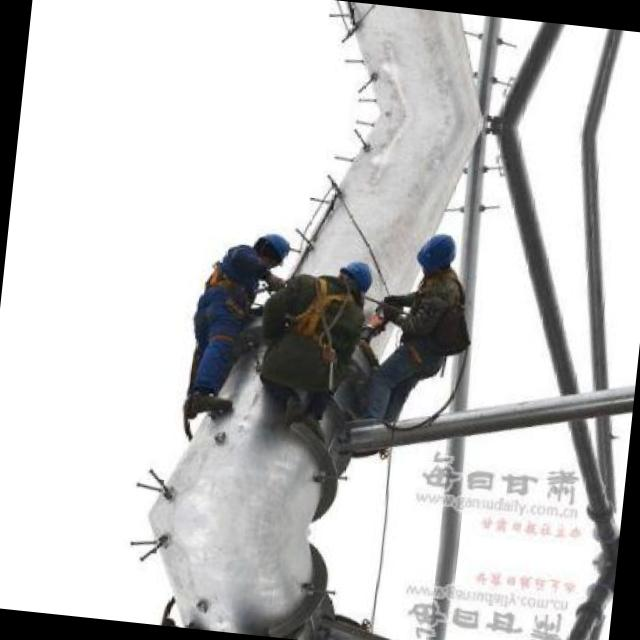helmet: (411, 222, 462, 291), (329, 253, 375, 300), (247, 224, 291, 269)
